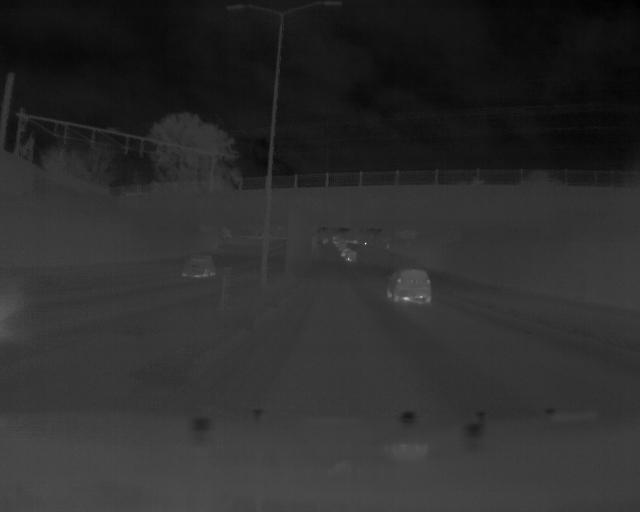car: (388, 267, 434, 305), (179, 254, 218, 278)
